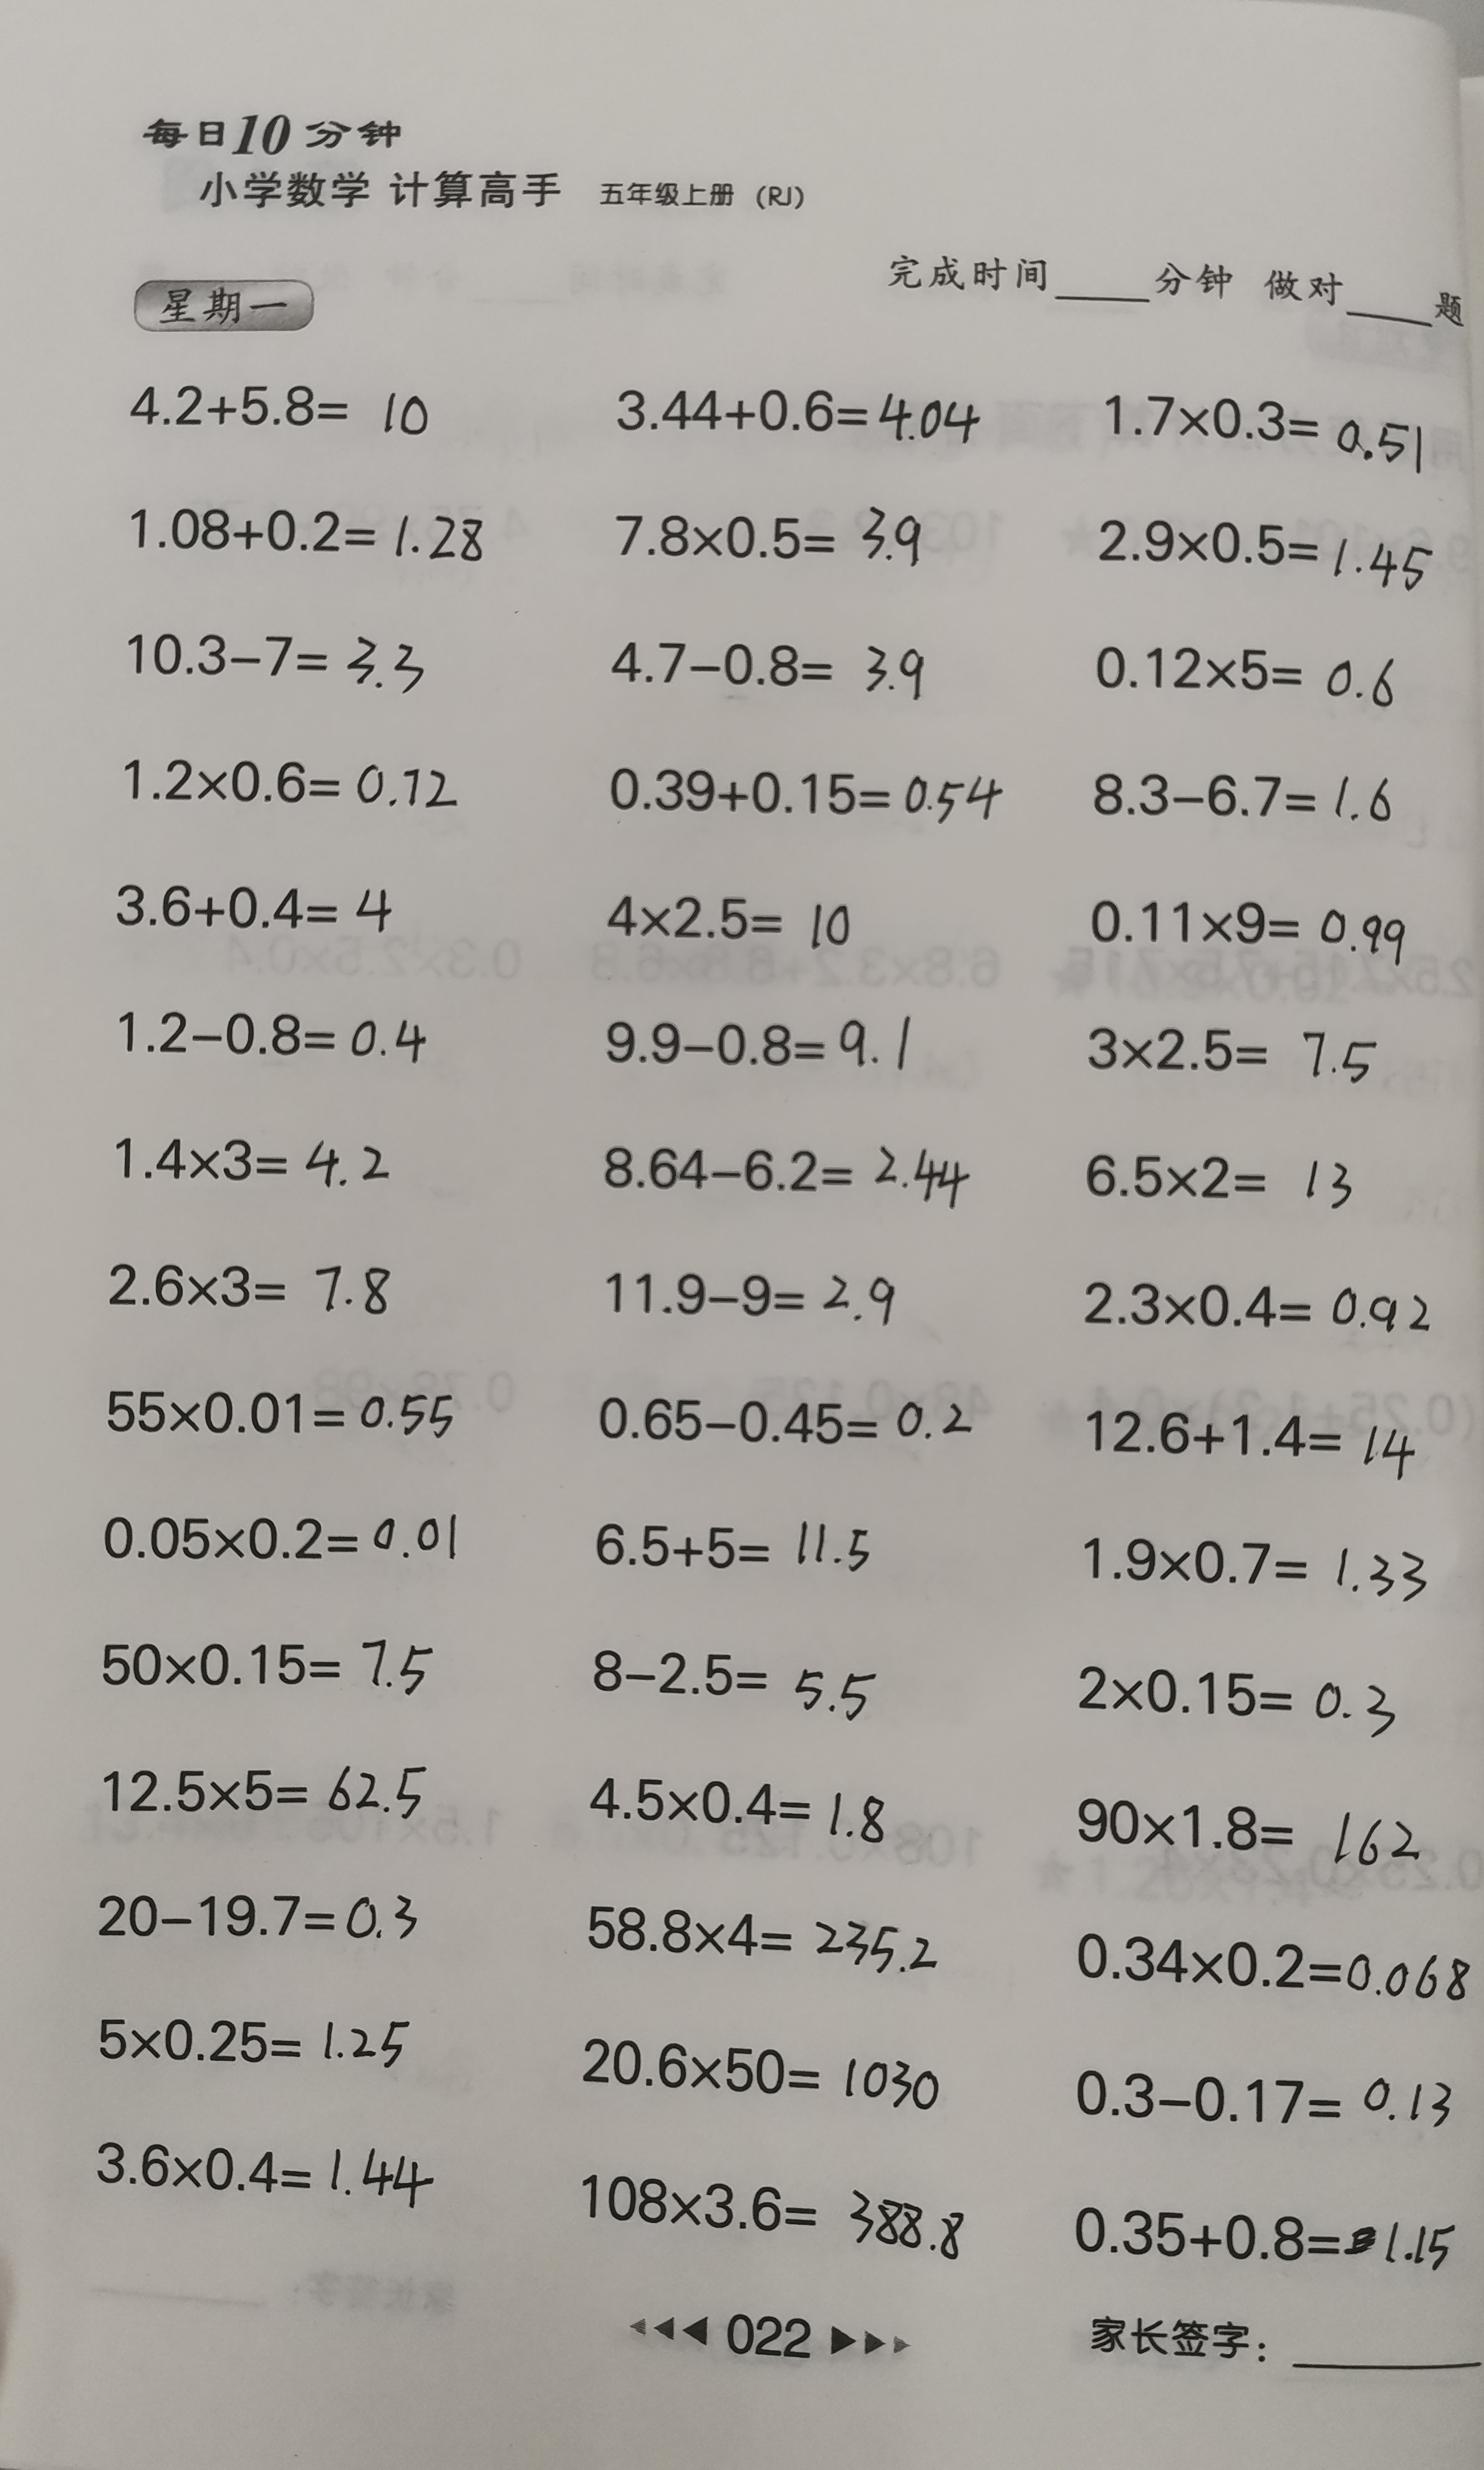equation: (570, 2158, 981, 2271), (568, 1882, 955, 1995), (1061, 1780, 1450, 1888), (593, 1117, 983, 1223), (1091, 374, 1445, 489), (1068, 2182, 1470, 2281), (561, 2020, 953, 2119), (1055, 1644, 1420, 1748), (81, 2119, 443, 2223), (596, 748, 1013, 838), (1064, 1517, 1449, 1614), (1064, 2047, 1470, 2138), (1071, 1258, 1459, 1353), (1062, 1927, 1480, 2015), (102, 489, 512, 579), (85, 1486, 498, 1574), (579, 1376, 1008, 1459), (1073, 1390, 1445, 1484), (72, 1863, 441, 1957), (598, 619, 962, 713), (97, 988, 450, 1083), (1087, 510, 1442, 603), (1076, 875, 1424, 970), (573, 1627, 902, 1727), (607, 372, 995, 457), (595, 984, 932, 1082), (79, 1623, 446, 1710), (108, 745, 487, 827), (90, 1371, 476, 1452), (113, 614, 459, 704), (579, 1763, 916, 1852), (86, 1745, 443, 1830), (1078, 750, 1417, 836), (1091, 632, 1413, 722), (591, 1249, 930, 1334), (113, 363, 455, 446), (603, 494, 944, 575), (102, 863, 416, 949), (1078, 1011, 1398, 1096), (593, 873, 881, 967), (579, 1505, 898, 1588), (86, 1247, 416, 1327), (101, 1120, 416, 1201), (85, 2004, 429, 2078), (1076, 1136, 1369, 1214)
